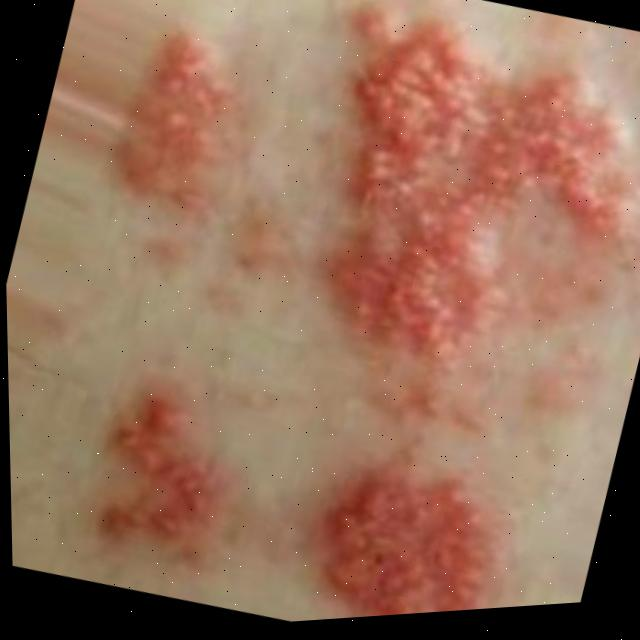Shingles: (202, 0, 640, 627), (104, 24, 260, 229), (84, 394, 246, 576)
